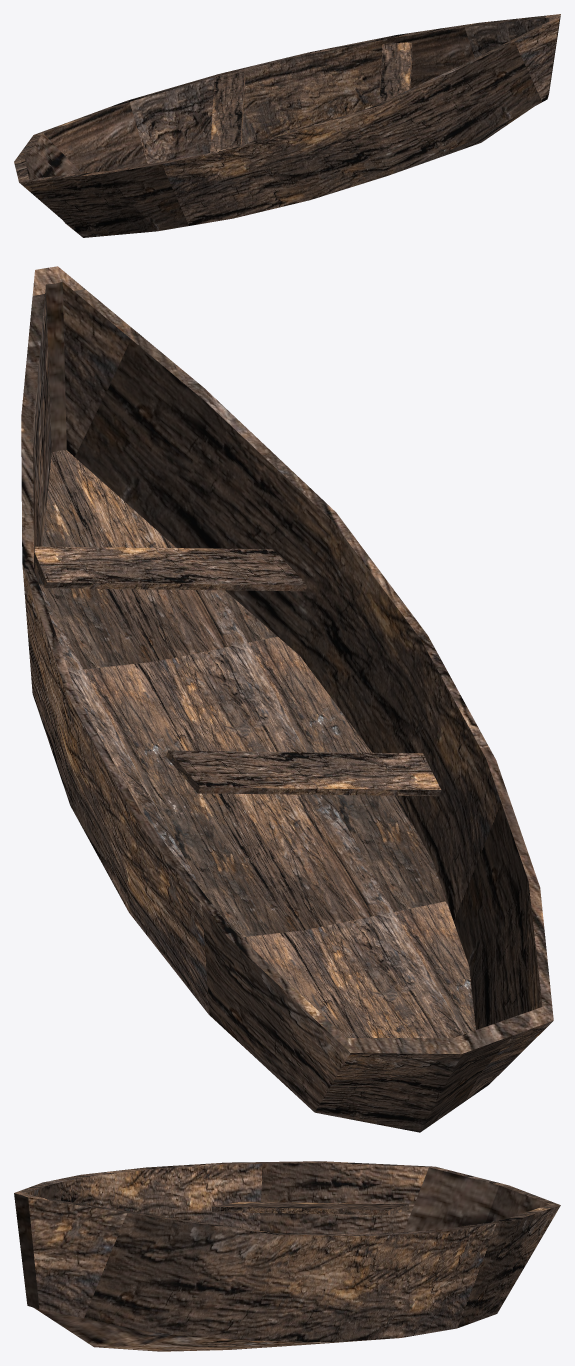
File: boat.obj
3 views of the same model, one above another, from view 1: azimuth 30°, elevation 25°; view 2: azimuth 150°, elevation 25°; view 3: azimuth 270°, elevation 25° (orthographic). The views are drawn at different scales.
Parts seen in each view (by area): view 1: Cube, Cube.001; view 2: Cube, Cube.001; view 3: Cube, Cube.001.
Boxes of the visible parts, x1,y1,x2,y2 form: Cube: (14, 14, 560, 237); Cube.001: (210, 42, 412, 152); Cube: (21, 266, 553, 1132); Cube.001: (34, 546, 441, 796); Cube: (14, 1161, 560, 1351); Cube.001: (211, 1201, 409, 1215).
Bounding box in the file's own units: 20.85 × 11.76 × 17.1.
Materials: 3 (3 with a texture image).
